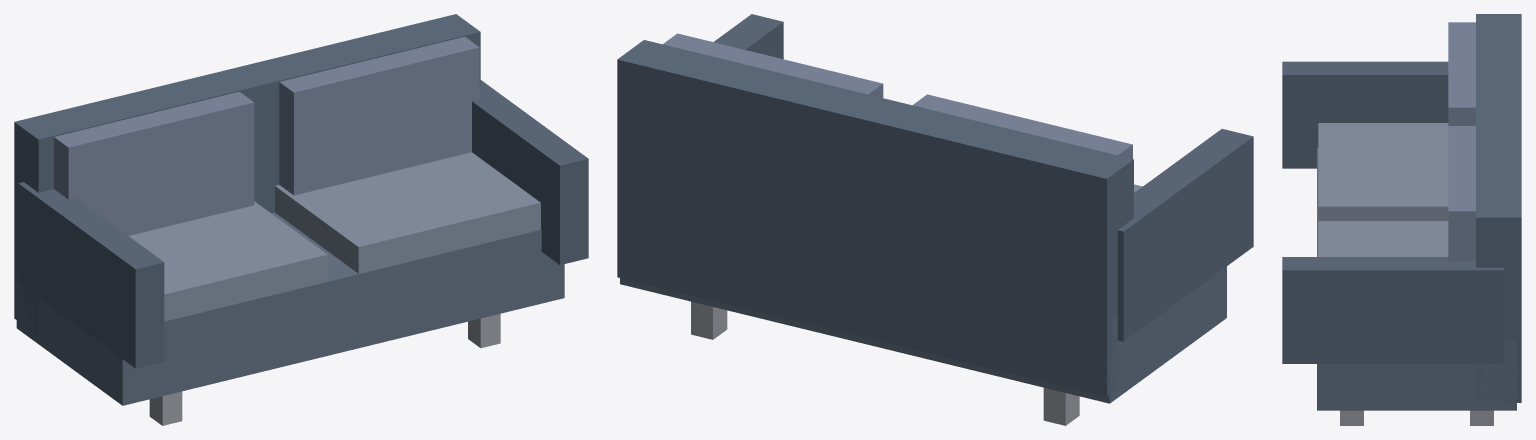
Rendered from lounge_sofa.glb.
The picture shows the model from 3 angles, left to right: view 1: azimuth 30°, elevation 25°; view 2: azimuth 150°, elevation 25°; view 3: azimuth 270°, elevation 25°; orthographic projection. The views are drawn at different scales.
Parts seen in each view (by area): view 1: world; view 2: world; view 3: world.
Part boxes in pixels (x1,y1,x2,y2): world: [14, 14, 588, 425]; world: [617, 14, 1253, 425]; world: [1282, 14, 1521, 425].
Bounding box in the file's own units: 2.05 × 1.07 × 0.995.
